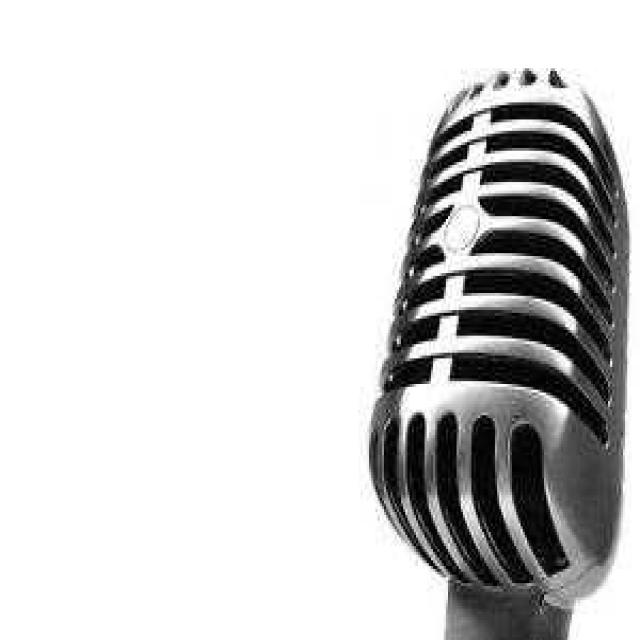microphone: (360, 64, 632, 636)
